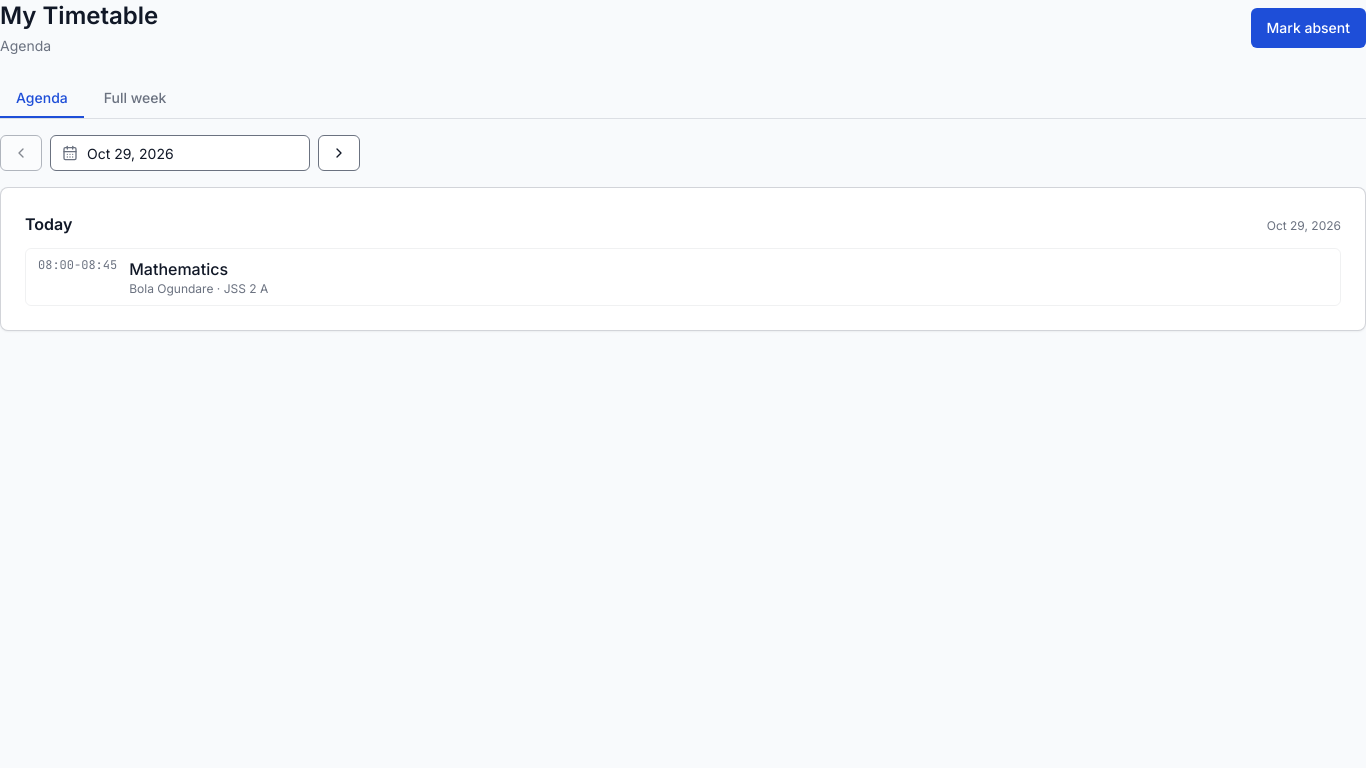
it: TeacherTimetablePage › 'Mark absent' offers every school day from the full week, not just the single agenda day
Expected: the text "Mathematics" is shown, x1=129 y1=259 x2=228 y2=279
What coordinates should you click on to do the following:
click the button "Mark absent"
I would click on:
 (1308, 28)
Its box is x1=1250 y1=8 x2=1365 y2=48.
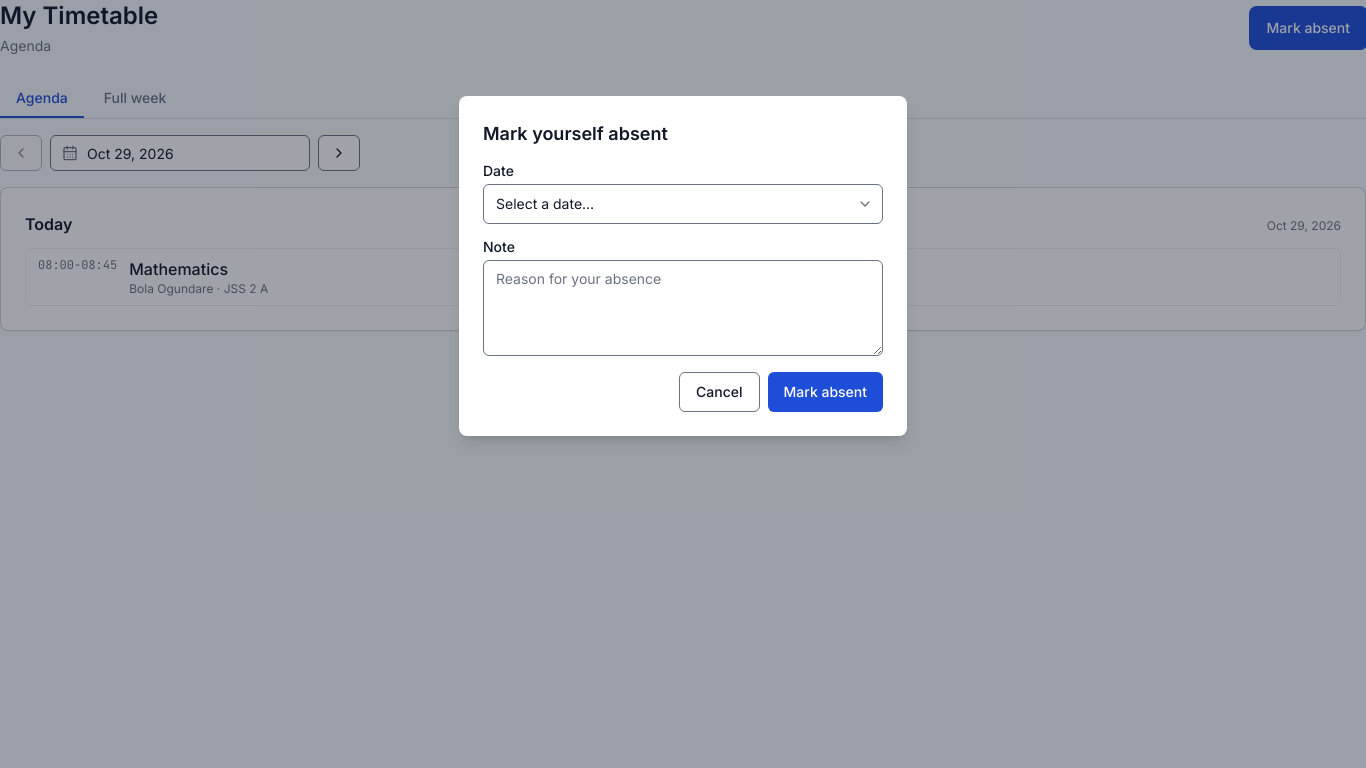
Result: the dropdown labelled "Date" is shown at x1=483 y1=184 x2=883 y2=224
